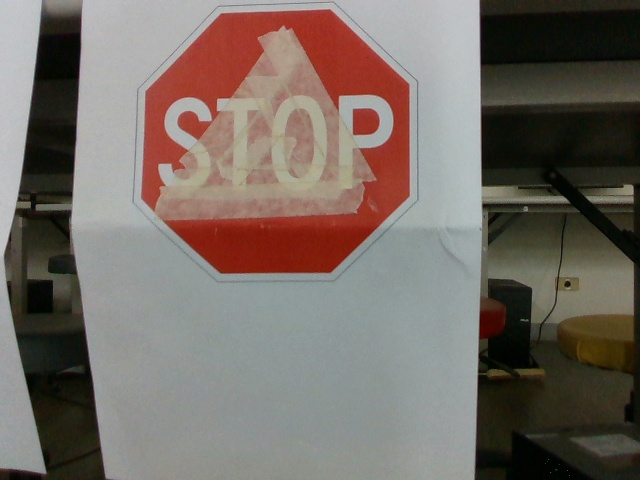stop: (141, 9, 421, 282)
